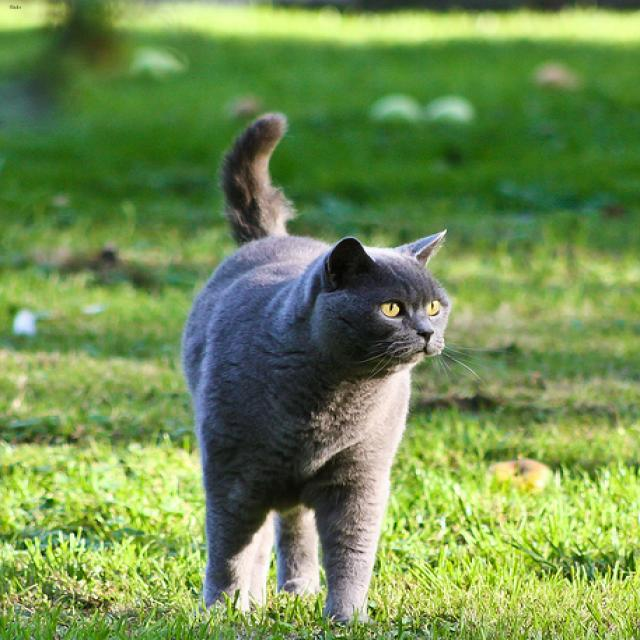British_Shorthair: (311, 228, 449, 362)
